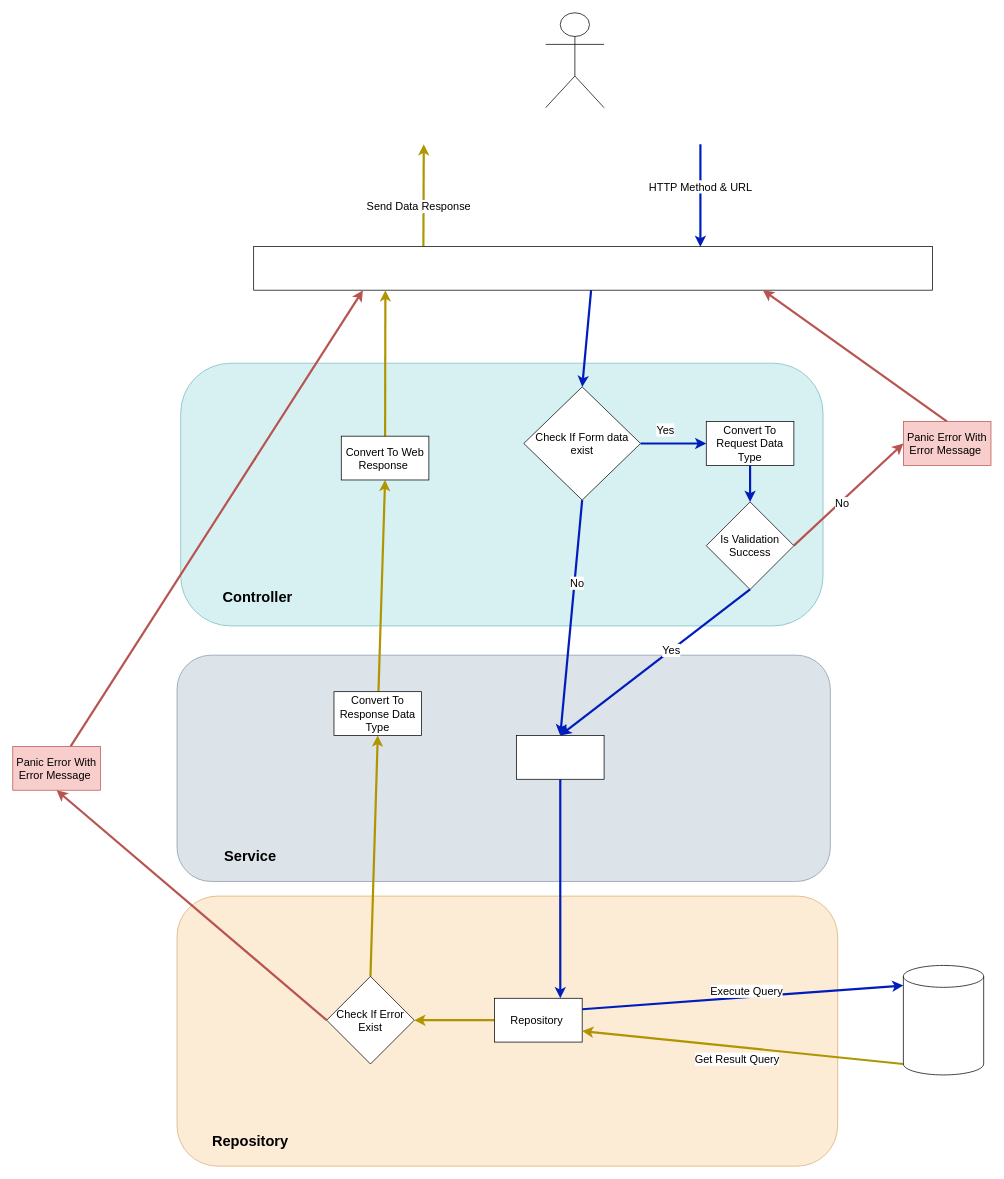
Image size: 1004x1179. Some labels were removed from this diagram. The shapes that lost their labels are listed below. From the top down, each one's centre as x and y in pixels, then its label:
At point (574, 60): "Client".
At point (593, 268): "API GATEWAY".
At point (560, 757): "Convert To Entity Data Type".
At point (943, 1020): "Database".
